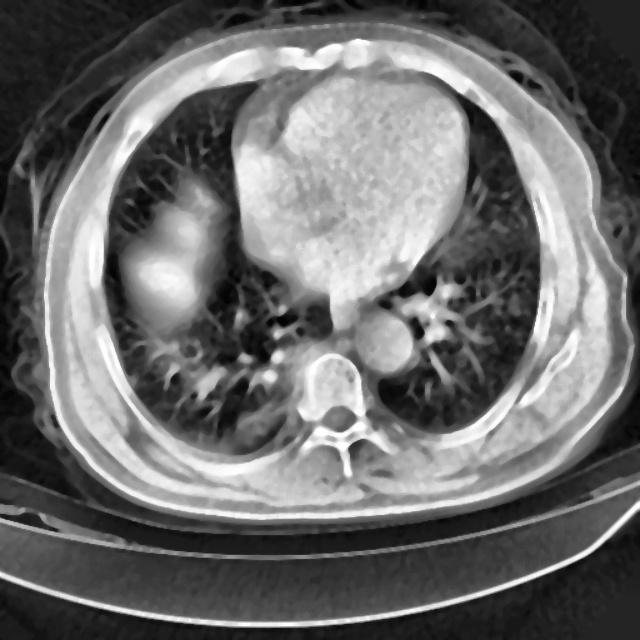covid: (7, 7, 636, 532), (229, 60, 470, 332)
